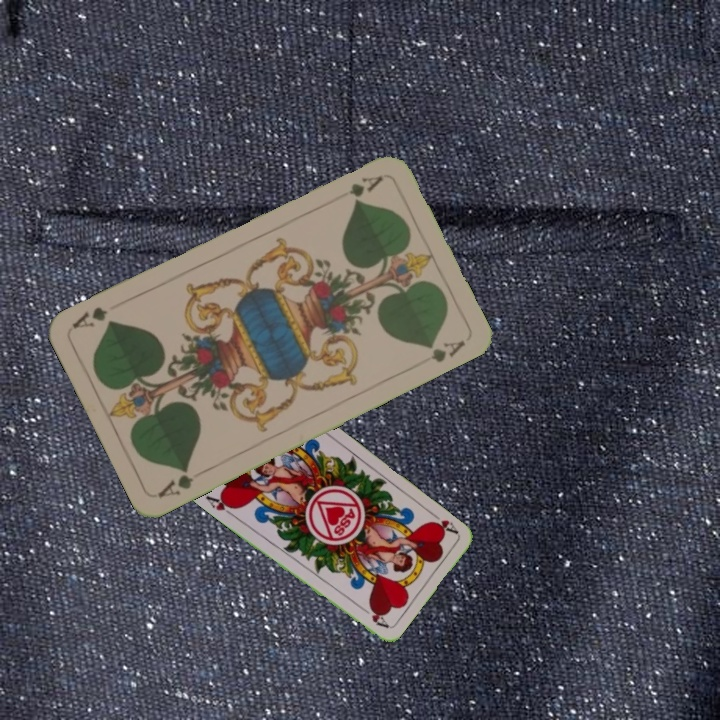GA: (330, 172, 386, 205), (154, 463, 197, 500)
HA: (201, 489, 238, 518), (425, 507, 460, 536)
